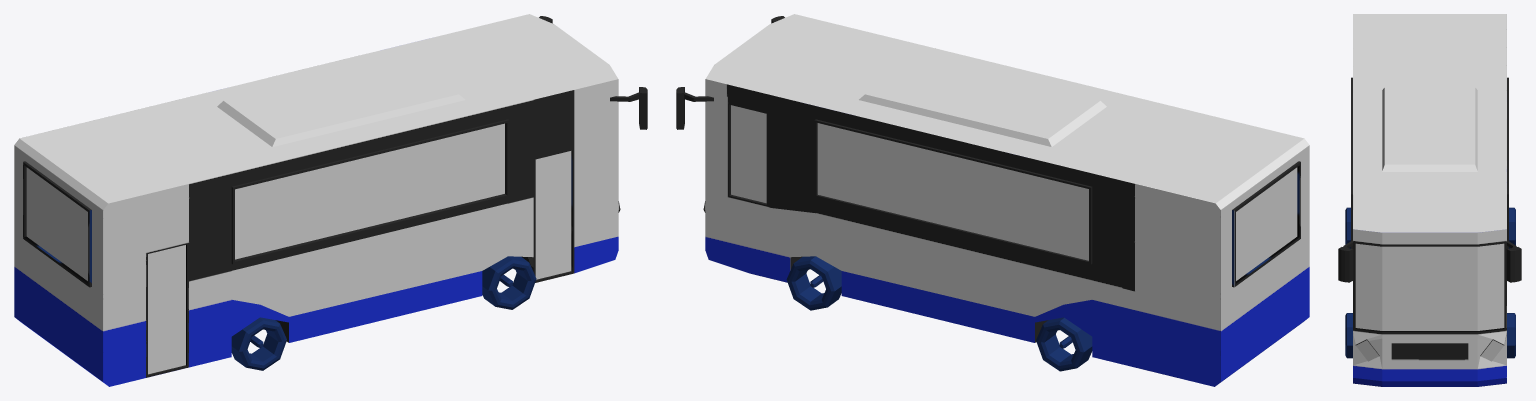
The model's file is Buss.fbx.
The picture shows the model from 3 angles, left to right: view 1: azimuth 30°, elevation 25°; view 2: azimuth 150°, elevation 25°; view 3: azimuth 270°, elevation 25°; orthographic projection. The views are drawn at different scales.
Visible parts, largest first — view 1: Body, Wheels_front, Wheels_Back; view 2: Body, Wheels_front, Wheels_Back; view 3: Body, Wheels_front, Wheels_Back.
Part boxes in pixels (x1,y1,x2,y2): Body: [14, 14, 647, 386]; Wheels_front: [482, 256, 536, 309]; Wheels_Back: [231, 317, 286, 370]; Body: [676, 14, 1309, 386]; Wheels_front: [786, 256, 841, 310]; Wheels_Back: [1036, 317, 1092, 371]; Body: [1338, 14, 1521, 386]; Wheels_front: [1345, 313, 1515, 358]; Wheels_Back: [1345, 207, 1515, 248].
Size of the model in its own units: 839 by 306 by 284.
